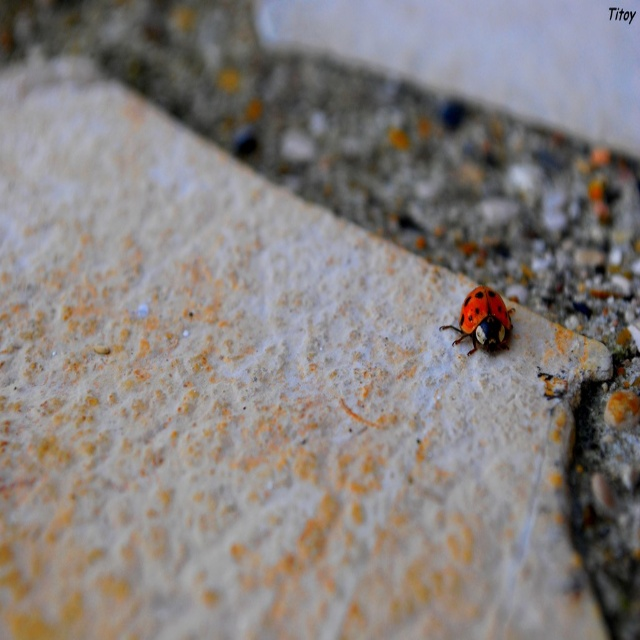Ladybug: (439, 284, 523, 351)
